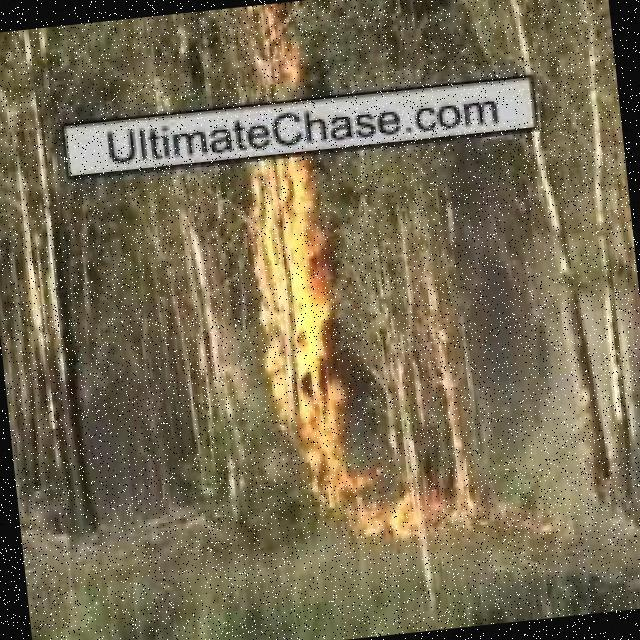Fire: (249, 156, 344, 430), (291, 417, 474, 548), (254, 9, 311, 88)
